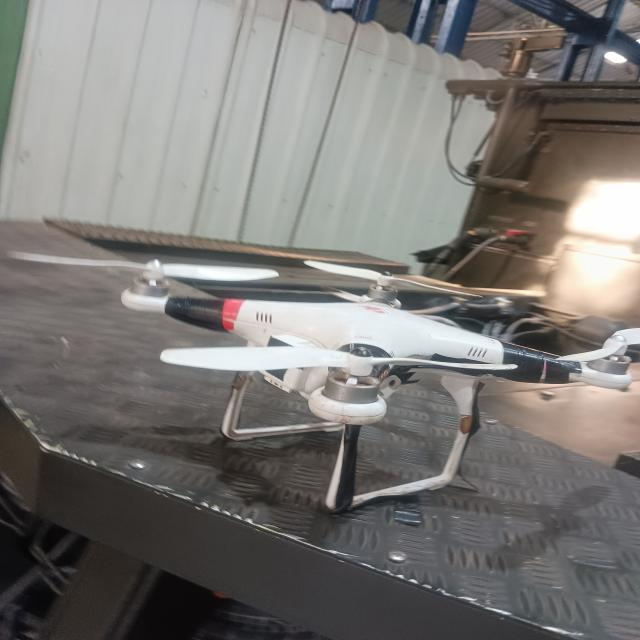drone: (0, 218, 640, 523)
